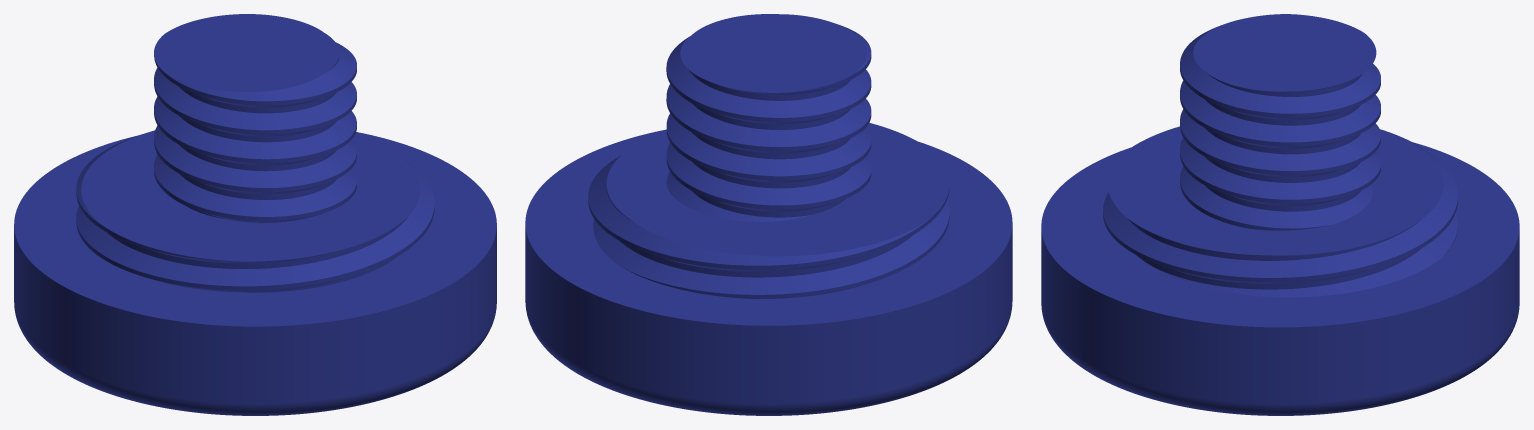
File: BottomCap.obj
3 views of the same model, side by side, from view 1: azimuth 30°, elevation 25°; view 2: azimuth 150°, elevation 25°; view 3: azimuth 270°, elevation 25° (orthographic).
Parts seen in each view (by area): view 1: Body1; view 2: Body1; view 3: Body1.
Boxes of the visible parts, x1,y1,x2,y2 form: Body1: (14, 14, 496, 415); Body1: (525, 14, 1012, 415); Body1: (1041, 14, 1519, 415).
Size of the model in its own units: 22.7 by 13.9 by 22.7.
